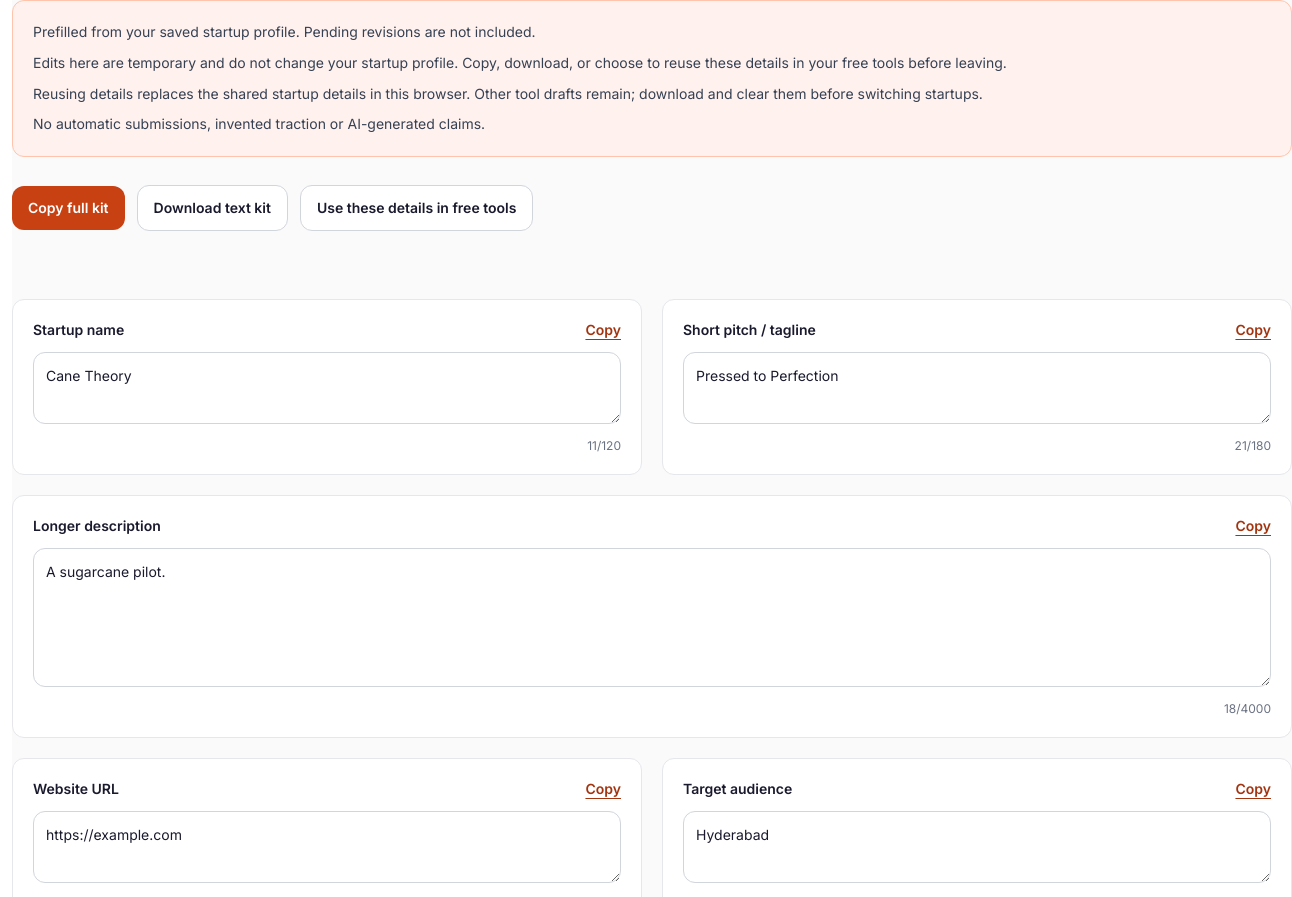
Test: free launch tools › copies actual kit content and reports clipboard failure without claiming success
Click the button "Copy full kit" at (68, 208), box [12,186,124,230]
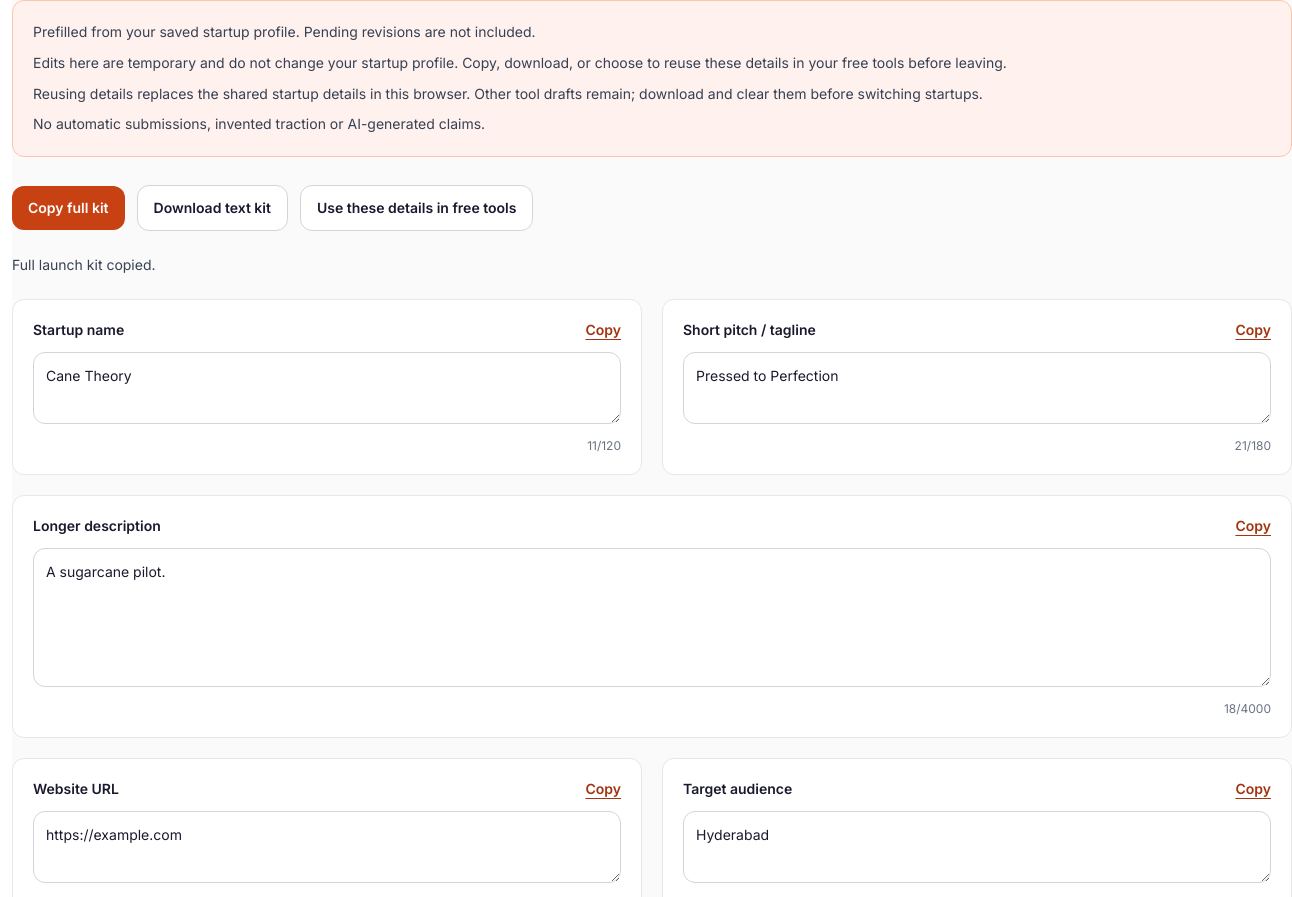
Expected: the message "Full launch kit copied." is shown, [12,256,156,273]
Click the button "Copy full kit" at (68, 208), box [12,186,124,230]
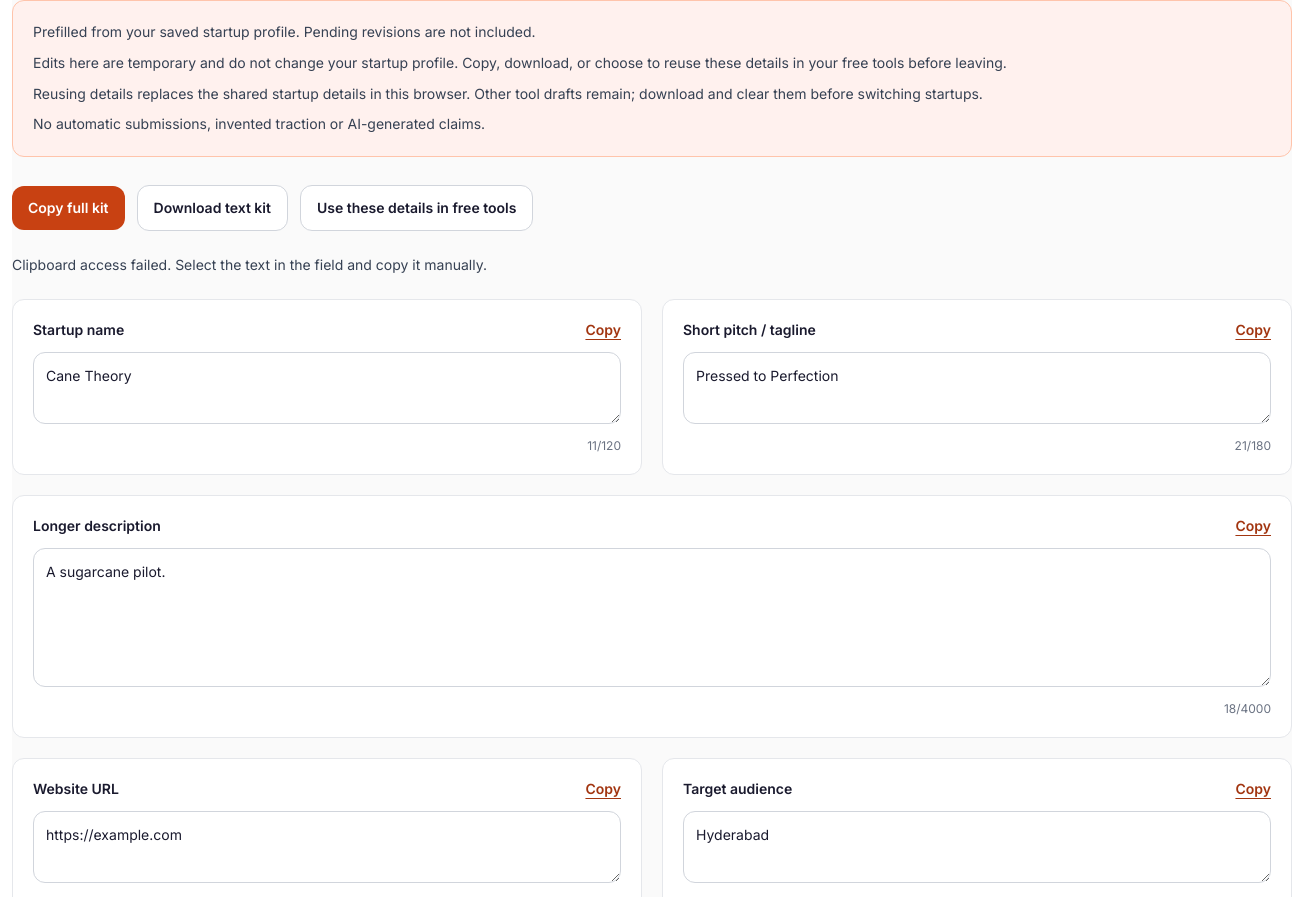
Expected: the message "Clipboard access failed. Select the text in the field and copy it manually." is shown, [12,256,487,273]
